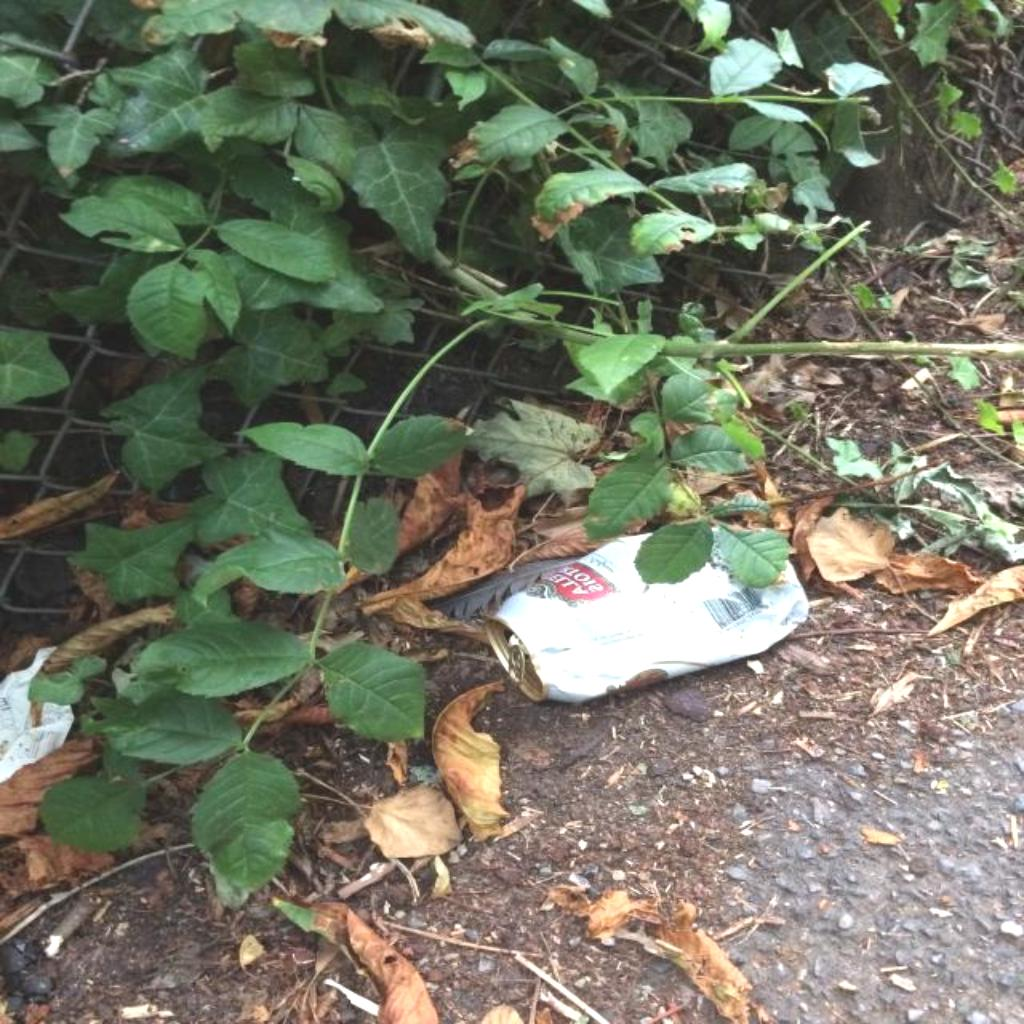garbage: (493, 508, 819, 703), (3, 643, 101, 784)
